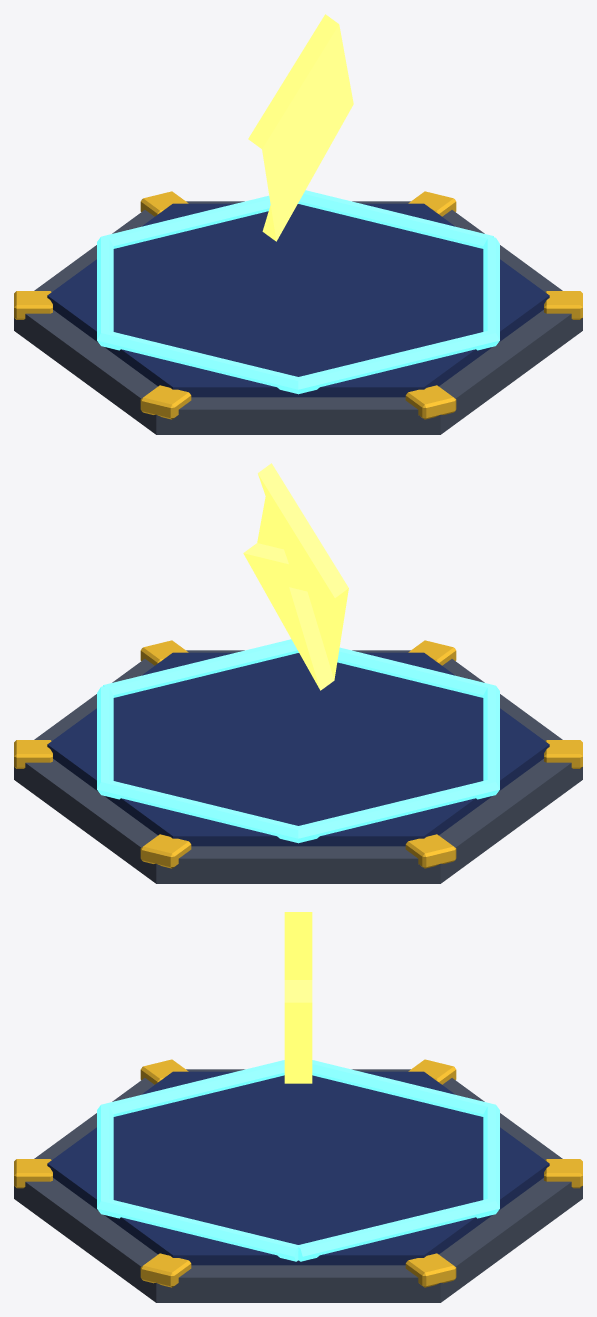
File: AbilityPad.fbx
The picture shows the model from 3 angles, top to bottom: view 1: azimuth 30°, elevation 25°; view 2: azimuth 150°, elevation 25°; view 3: azimuth 270°, elevation 25°; orthographic projection.
Parts seen in each view (by area): view 1: AbilityPad, Neon_Cyan, Neon_Yellow; view 2: AbilityPad, Neon_Cyan, Neon_Yellow; view 3: AbilityPad, Neon_Cyan, Neon_Yellow.
Part boxes in pixels (bbox=[...]): AbilityPad: bbox=[14, 191, 582, 434]; Neon_Cyan: bbox=[97, 190, 499, 394]; Neon_Yellow: bbox=[248, 14, 353, 241]; AbilityPad: bbox=[14, 640, 582, 883]; Neon_Cyan: bbox=[97, 639, 499, 843]; Neon_Yellow: bbox=[243, 463, 348, 690]; AbilityPad: bbox=[14, 1059, 582, 1302]; Neon_Cyan: bbox=[97, 1060, 499, 1261]; Neon_Yellow: bbox=[284, 912, 312, 1083].
Size of the model in its own units: 9.13 by 6 by 10.2.
3 materials, 1 textured.
